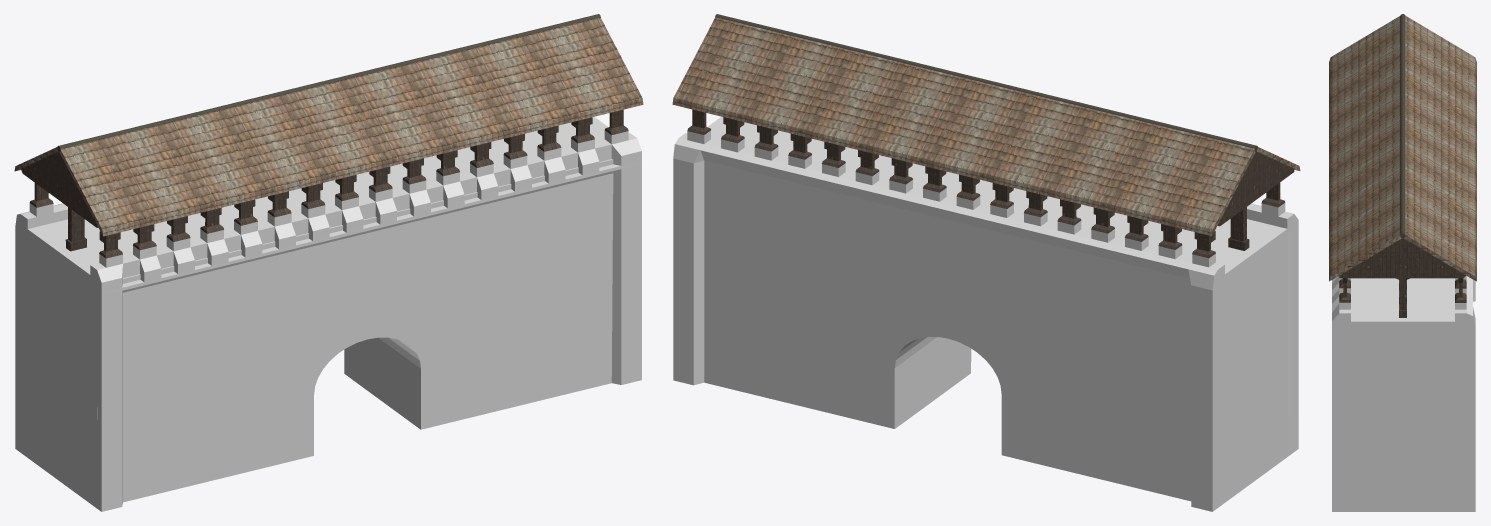
Rendered from CastleWallsRoof-2.fbx.
The picture shows the model from 3 angles, left to right: view 1: azimuth 30°, elevation 25°; view 2: azimuth 150°, elevation 25°; view 3: azimuth 270°, elevation 25°; orthographic projection. The views are drawn at different scales.
Parts seen in each view (by area): view 1: HradbyTypC.008; view 2: HradbyTypC.008; view 3: HradbyTypC.008.
Part boxes in pixels (left/top/right/bottom): HradbyTypC.008: left=14, top=14, right=643, bottom=511; HradbyTypC.008: left=672, top=14, right=1300, bottom=511; HradbyTypC.008: left=1329, top=14, right=1476, bottom=511.
Bounding box in the file's own units: 3875 × 2293 × 1103.
